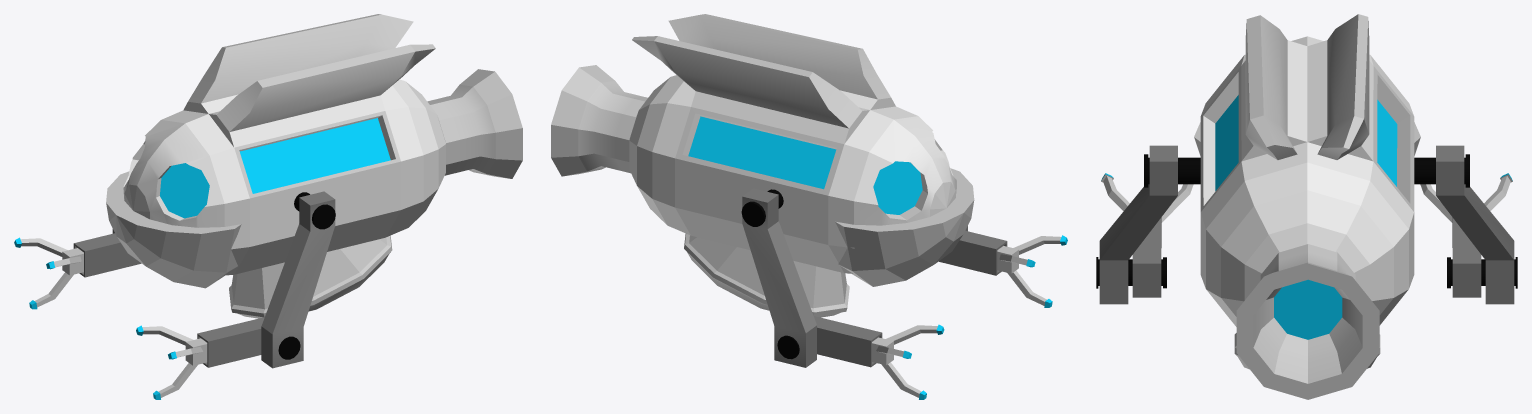
File: COLORED_CAPSULE_BOY.fbx
3 renders of one model, left to right at view 1: azimuth 30°, elevation 25°; view 2: azimuth 150°, elevation 25°; view 3: azimuth 270°, elevation 25°, orthographic. The views are drawn at different scales.
Visible parts, largest first — view 1: pasted__pCylinder6; view 2: pasted__pCylinder6; view 3: pasted__pCylinder6.
Boxes of the visible parts, x1,y1,x2,y2 form: pasted__pCylinder6: (14, 14, 522, 399); pasted__pCylinder6: (551, 14, 1067, 399); pasted__pCylinder6: (1096, 14, 1517, 399).
Bounding box in the file's own units: 12.08 × 7.3 × 8.43.
